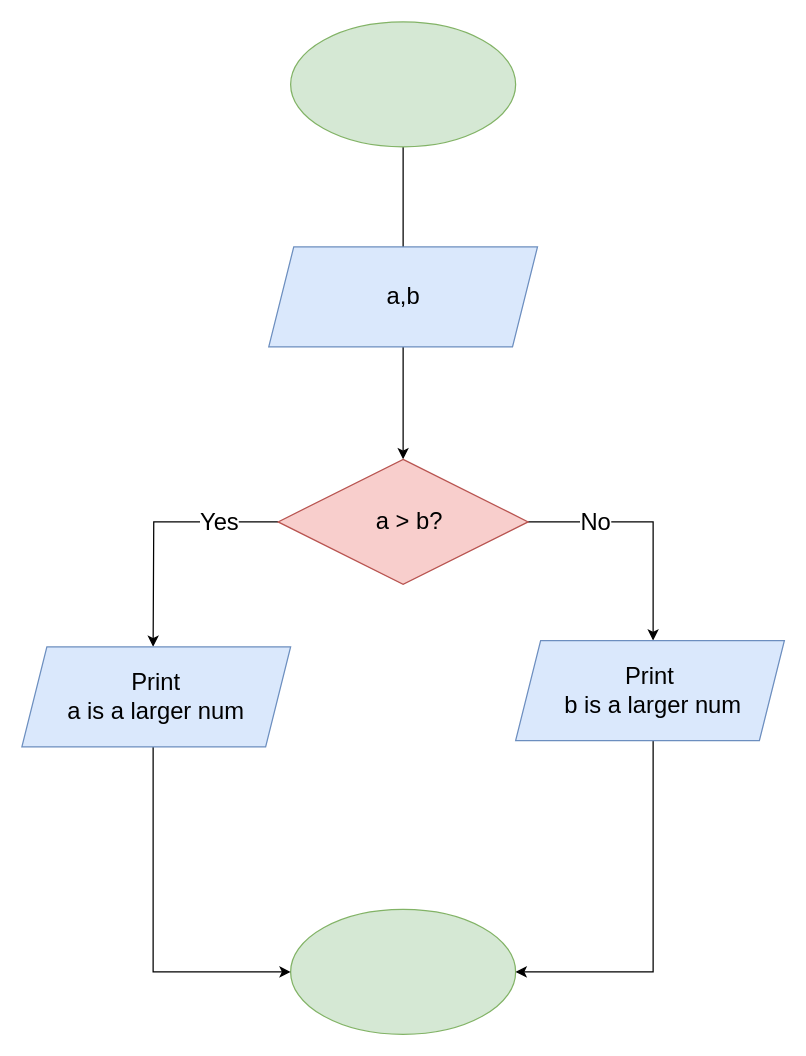
The diagram is 806 pixels wide and 1056 high, and some of its shapes have lost their labels. The box of each missing label's shape, as (x1, y1, x2, y2) in pixels:
End: (289, 908, 516, 1034)
Start: (289, 21, 516, 147)
